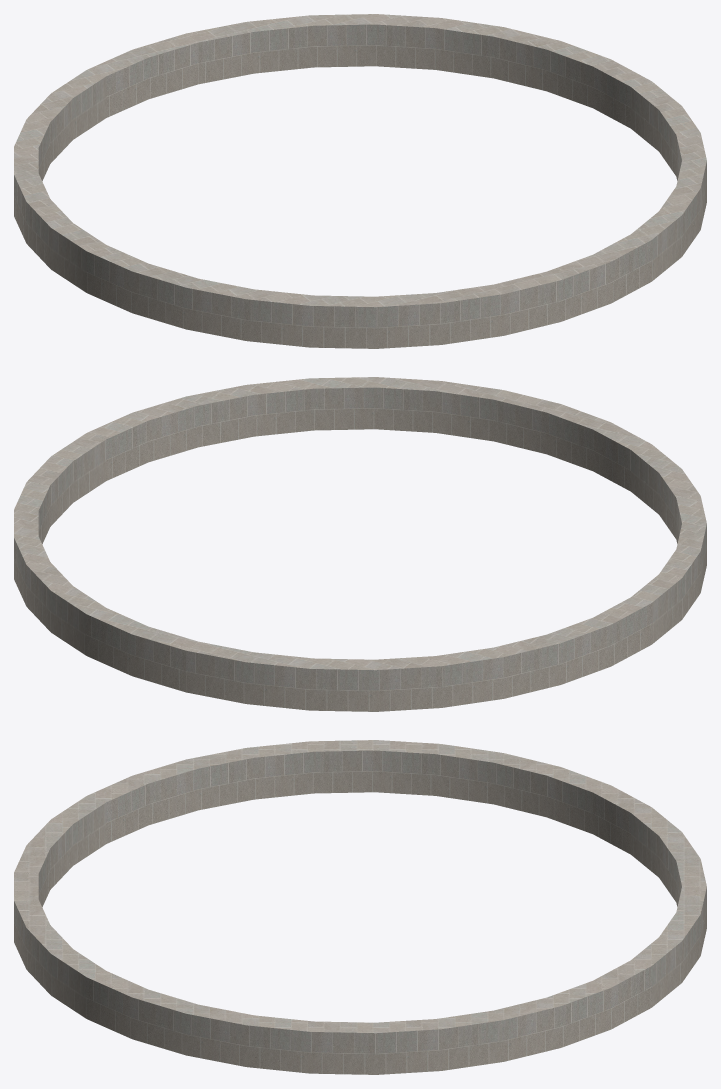
Rendered from bordeFuente.FBX.
3 views of the same model, one above another, from view 1: azimuth 30°, elevation 25°; view 2: azimuth 150°, elevation 25°; view 3: azimuth 270°, elevation 25° (orthographic).
Parts seen in each view (by area): view 1: Tube001; view 2: Tube001; view 3: Tube001.
Part boxes in pixels (x1,y1,x2,y2): Tube001: (14, 14, 706, 348); Tube001: (14, 377, 706, 711); Tube001: (14, 740, 706, 1074).
Bounding box in the file's own units: 656 × 43.6 × 655.
